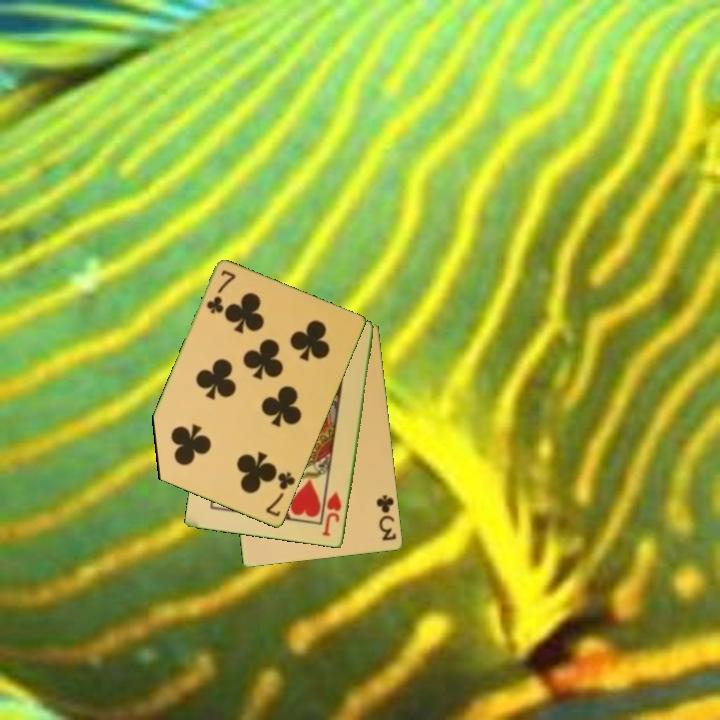3c: (373, 491, 399, 544)
7c: (262, 469, 298, 520), (203, 267, 239, 317)
Jh: (319, 488, 345, 539)
